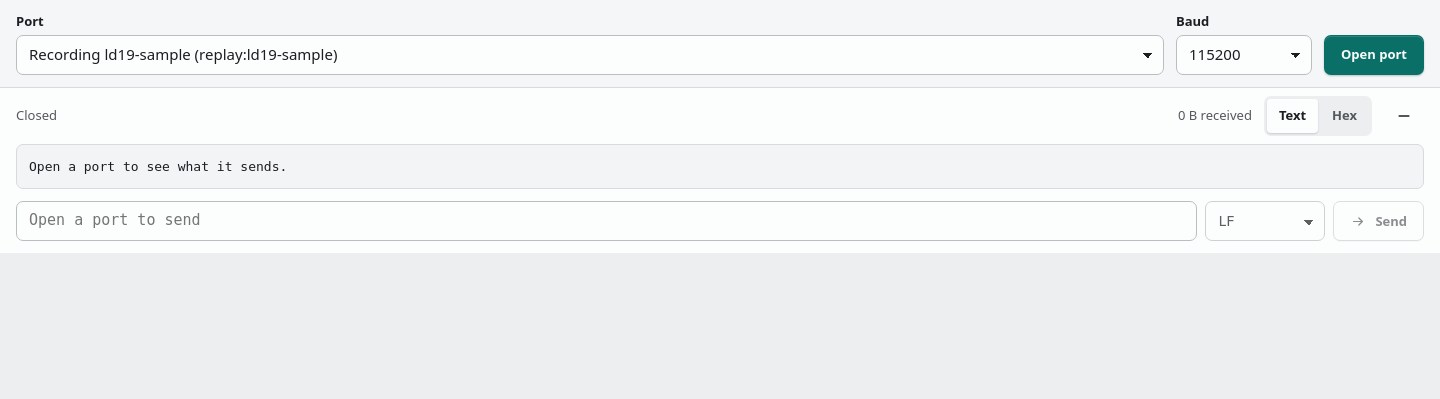
Test: Serial monitor › shows the port-claimed error clearly, with its hint
Step 1. Select "CP2102 USB to UART Bridge (COM3) (usb:10c4:ea60) · Used by the part \"lidar\"" in the dropdown labelled "Port" → (590,55), box [16,35,1164,75]
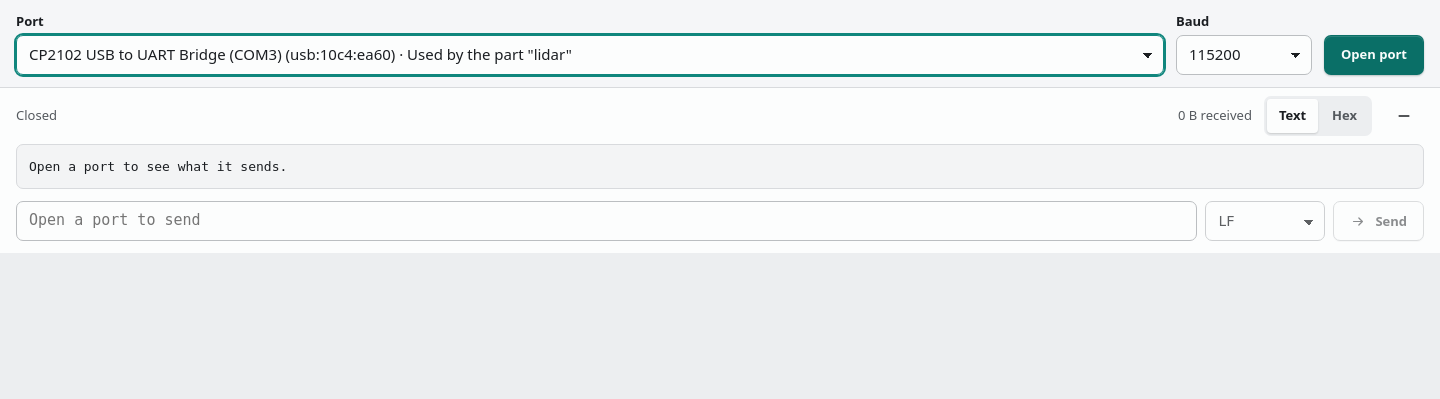
Step 2. Click the button "Open port" → (1374,55), box [1324,35,1424,75]
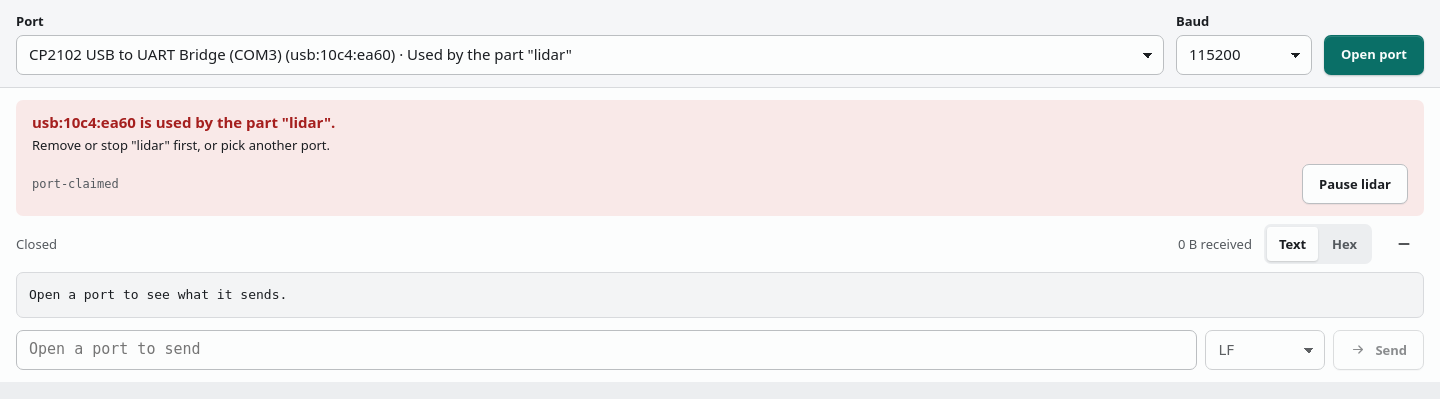
Check: the text "usb:10c4:ea60 is used by the part \"lidar\"." is shown, box [32,112,335,132]
Check: the text "Remove or stop \"lidar\" first, or pick another port." is shown, box [32,136,330,154]
